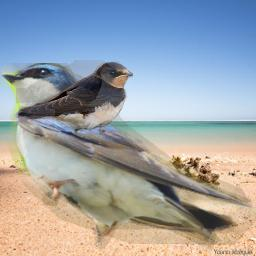Swallow: (1, 63, 256, 253), (16, 60, 133, 135)
